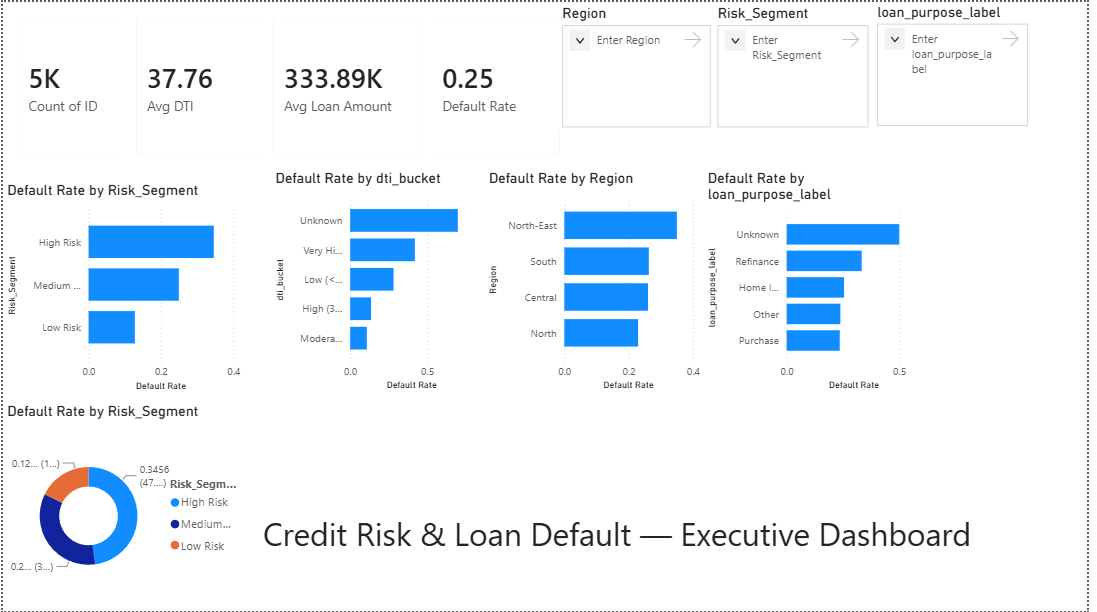

This screenshot's page, from the dashboard's own definition file:
{"tool":"powerbi","page":{"name":"EXECTUVIE DASHBOARD","canvas":[1280,720],"ordinal":1},"visuals":[{"type":"cardVisual","fields":{"Data":["CountNonNull(Loan_Default.ID)"]},"box":[0,0,186.1,197.8],"z":0},{"type":"cardVisual","fields":{"Data":["Loan_Default.Default Rate"]},"box":[488.8,0,186.2,197.5],"z":1000},{"type":"cardVisual","fields":{"Data":["Loan_Default.Avg DTI"]},"box":[139.6,0,193.4,197.8],"z":2000},{"type":"cardVisual","fields":{"Data":["Loan_Default.Avg Loan Amount"]},"box":[301.2,0,207.5,197.5],"z":3000},{"type":"clusteredBarChart","fields":{"Category":["Loan_Default.Risk_Segment"],"Y":["Loan_Default.Default Rate"]},"box":[0,210.8,285,251.6],"z":4000},{"type":"donutChart","fields":{"Category":["Loan_Default.Risk_Segment"],"Y":["Loan_Default.Default Rate"]},"box":[0,473,285,247],"z":5000},{"type":"clusteredBarChart","fields":{"Category":["Loan_Default.dti_bucket"],"Y":["Loan_Default.Default Rate"]},"box":[317,197.8,251.6,264.7],"z":6000},{"type":"clusteredBarChart","fields":{"Category":["Loan_Default.Region"],"Y":["Loan_Default.Default Rate"]},"box":[568.6,197.8,258.8,264.7],"z":7000},{"type":"clusteredBarChart","fields":{"Category":["Loan_Default.loan_purpose_label"],"Y":["Loan_Default.Default Rate"]},"box":[827.4,197.8,270.5,264.7],"z":8000},{"type":"textSlicer","fields":{"Values":["Loan_Default.Region"]},"box":[654.4,2.9,184.7,149.8],"z":9000},{"type":"textSlicer","fields":{"Values":["Loan_Default.Risk_Segment"]},"box":[839,2.9,187.6,149.8],"z":10000},{"type":"textSlicer","fields":{"Values":["Loan_Default.loan_purpose_label"]},"box":[1026.6,1.5,187.6,149.8],"z":11000},{"type":"textbox","box":[301,596.2,946.6,98.9],"z":12000}]}

Visuals, with their boxes in screenshot pixels (x1, y1, x2, y2), scaled from the page's 1280x720 canvas onto the 1097x612 screenshot:
cardVisual - CountNonNull(Loan_Default.ID): left=0, top=0, right=159, bottom=168
cardVisual - Loan_Default.Default Rate: left=419, top=0, right=578, bottom=168
cardVisual - Loan_Default.Avg DTI: left=120, top=0, right=285, bottom=168
cardVisual - Loan_Default.Avg Loan Amount: left=258, top=0, right=436, bottom=168
clusteredBarChart - Loan_Default.Risk_Segment x Loan_Default.Default Rate: left=0, top=179, right=244, bottom=393
donutChart - Loan_Default.Risk_Segment x Loan_Default.Default Rate: left=0, top=402, right=244, bottom=611
clusteredBarChart - Loan_Default.dti_bucket x Loan_Default.Default Rate: left=272, top=168, right=487, bottom=393
clusteredBarChart - Loan_Default.Region x Loan_Default.Default Rate: left=487, top=168, right=709, bottom=393
clusteredBarChart - Loan_Default.loan_purpose_label x Loan_Default.Default Rate: left=709, top=168, right=941, bottom=393
textSlicer - Loan_Default.Region: left=561, top=2, right=719, bottom=130
textSlicer - Loan_Default.Risk_Segment: left=719, top=2, right=880, bottom=130
textSlicer - Loan_Default.loan_purpose_label: left=880, top=1, right=1041, bottom=129
textbox: left=258, top=507, right=1069, bottom=591
